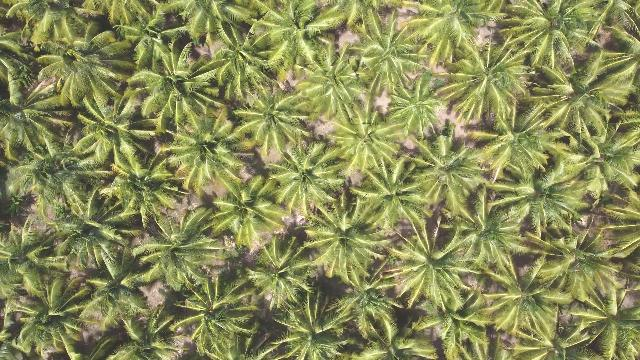trees: (532, 49, 639, 148), (528, 222, 635, 308), (6, 269, 97, 360), (305, 205, 396, 295), (9, 128, 99, 218), (441, 42, 531, 129), (387, 226, 475, 314), (134, 41, 220, 130), (169, 274, 257, 360), (134, 212, 224, 296), (202, 14, 284, 106), (477, 110, 564, 196), (351, 151, 438, 237), (404, 133, 487, 223), (472, 267, 562, 349), (35, 43, 135, 116), (351, 16, 428, 104), (301, 45, 376, 135), (165, 113, 245, 197), (76, 97, 161, 176), (81, 255, 163, 335), (453, 191, 531, 275), (511, 159, 591, 240), (102, 148, 183, 228), (41, 208, 134, 277), (240, 239, 321, 318), (266, 291, 358, 360), (506, 3, 594, 75), (266, 141, 345, 221), (555, 286, 640, 360), (407, 3, 500, 69), (251, 3, 334, 75), (207, 175, 283, 253), (239, 88, 319, 161), (328, 111, 403, 186), (120, 5, 195, 74), (356, 306, 435, 360), (589, 123, 640, 197), (167, 1, 239, 49), (310, 3, 402, 40), (28, 4, 91, 49)
